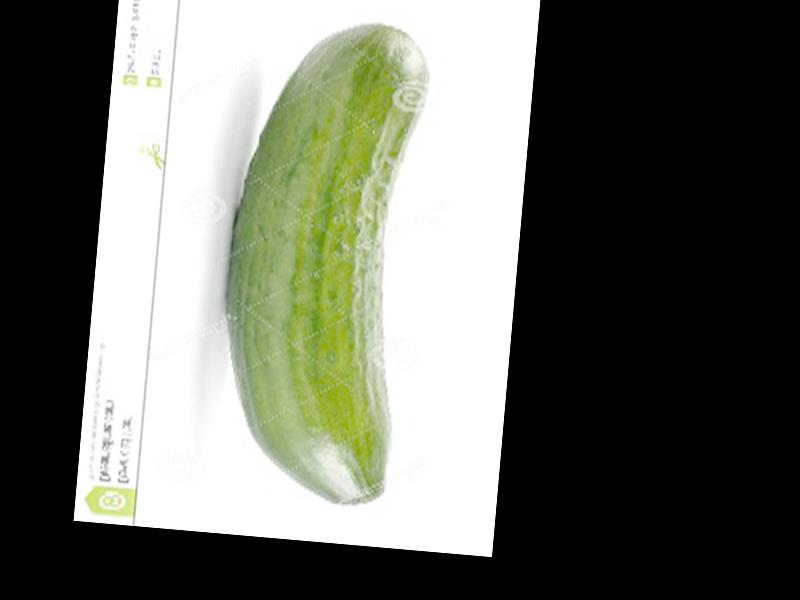Cucumber: (209, 13, 427, 505)
